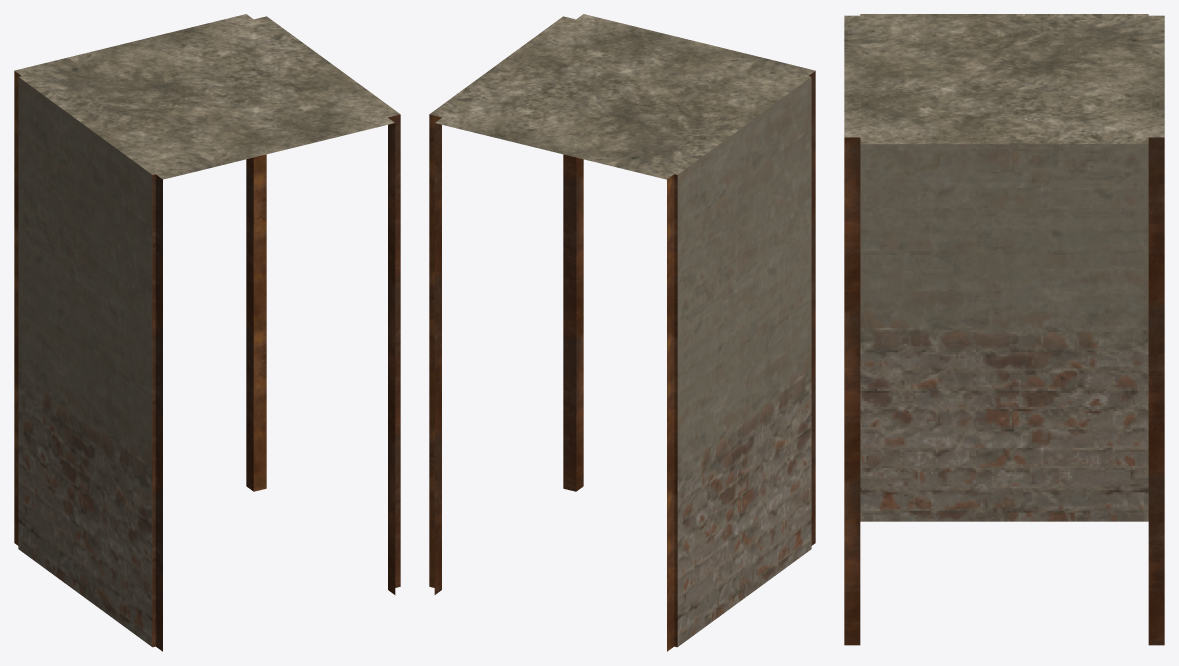
File: 2x2_ThreeWay_Hallway.fbx
3 renders of one model, left to right at view 1: azimuth 30°, elevation 25°; view 2: azimuth 150°, elevation 25°; view 3: azimuth 270°, elevation 25°, orthographic. The views are drawn at different scales.
Visible parts, largest first — view 1: 2x2ThreeWayHallway.001; view 2: 2x2ThreeWayHallway.001; view 3: 2x2ThreeWayHallway.001.
Boxes of the visible parts, <box> form: 2x2ThreeWayHallway.001: <box>14,14,400,651</box>; 2x2ThreeWayHallway.001: <box>429,14,815,651</box>; 2x2ThreeWayHallway.001: <box>844,14,1164,645</box>.
Size of the model in its own units: 192 by 350 by 200.
